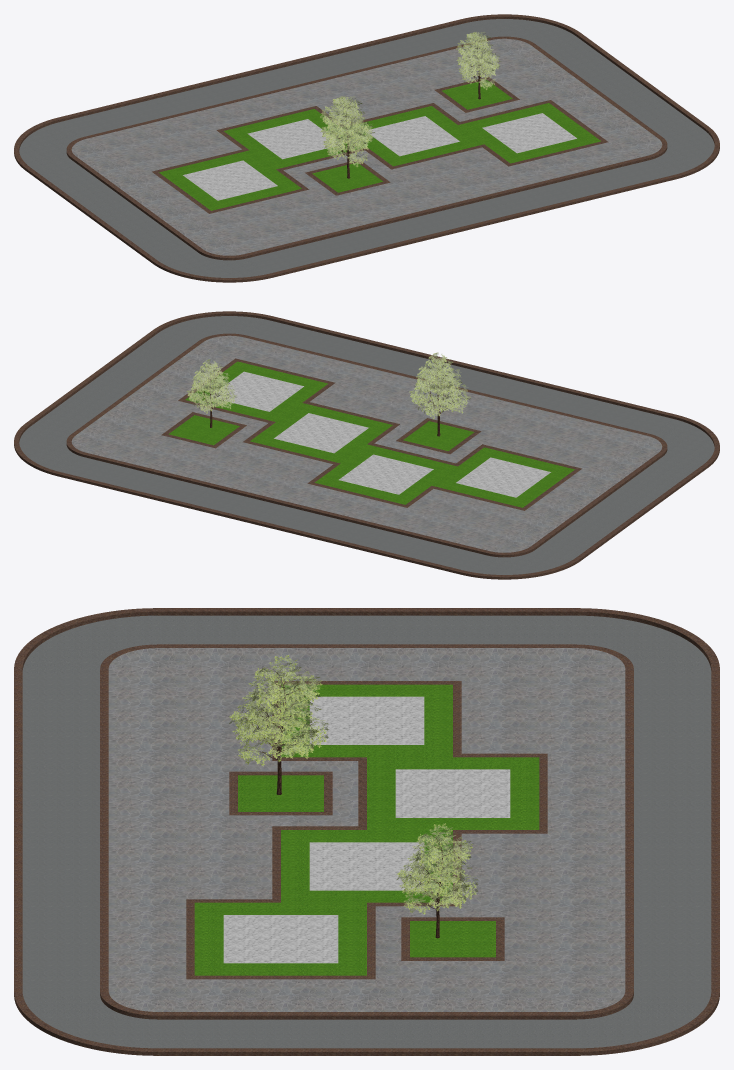
3 renders of one model, top to bottom at view 1: azimuth 30°, elevation 25°; view 2: azimuth 150°, elevation 25°; view 3: azimuth 270°, elevation 25°, orthographic. The views are drawn at different scales.
Visible parts, largest first — view 1: 4) Model - 4.dwg; view 2: 4) Model - 4.dwg; view 3: 4) Model - 4.dwg.
Part boxes in pixels (bbox=[...]): 4) Model - 4.dwg: bbox=[14, 14, 719, 282]; 4) Model - 4.dwg: bbox=[14, 311, 719, 579]; 4) Model - 4.dwg: bbox=[14, 608, 719, 1055].
Bounding box in the file's own units: 36.6 × 5.23 × 24.6.
633 materials, 633 textured.
